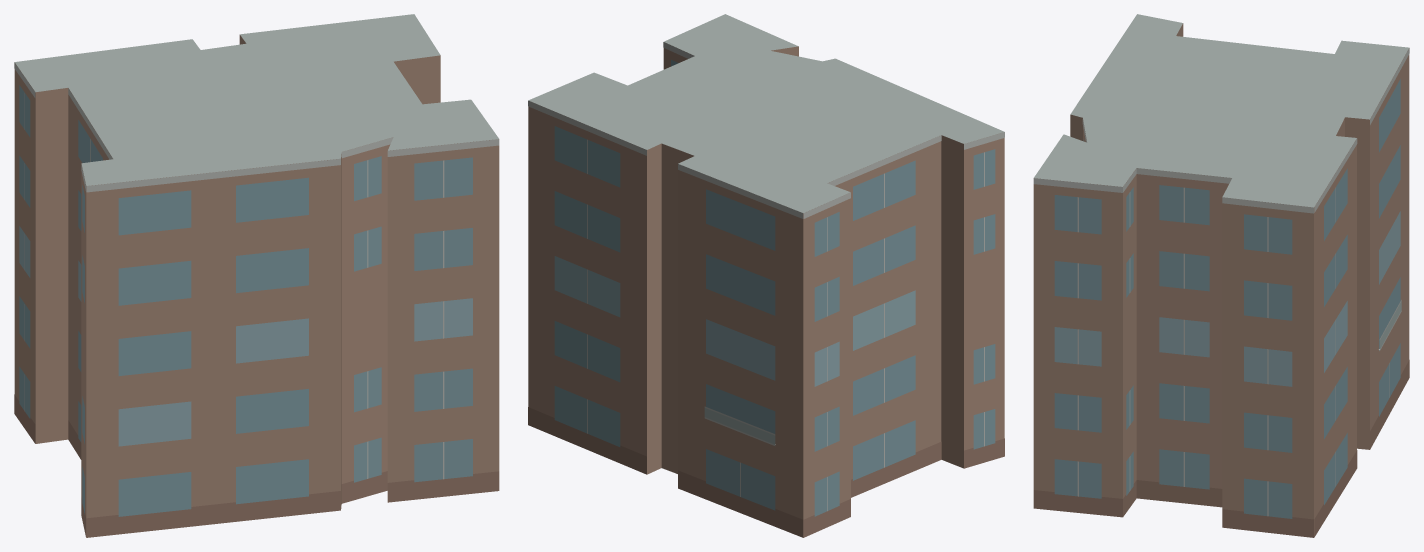
File: survey-upis-32758494.glb
The picture shows the model from 3 angles, left to right: view 1: azimuth 30°, elevation 25°; view 2: azimuth 150°, elevation 25°; view 3: azimuth 270°, elevation 25°; orthographic projection. The views are drawn at different scales.
Visible parts, largest first — view 1: survey-upis-32758494.tmp; view 2: survey-upis-32758494.tmp; view 3: survey-upis-32758494.tmp.
Part boxes in pixels (bbox=[...]): survey-upis-32758494.tmp: bbox=[14, 14, 499, 537]; survey-upis-32758494.tmp: bbox=[528, 14, 1004, 537]; survey-upis-32758494.tmp: bbox=[1033, 14, 1409, 537].
Bounding box in the file's own units: 16.72 × 13.3 × 13.72.
